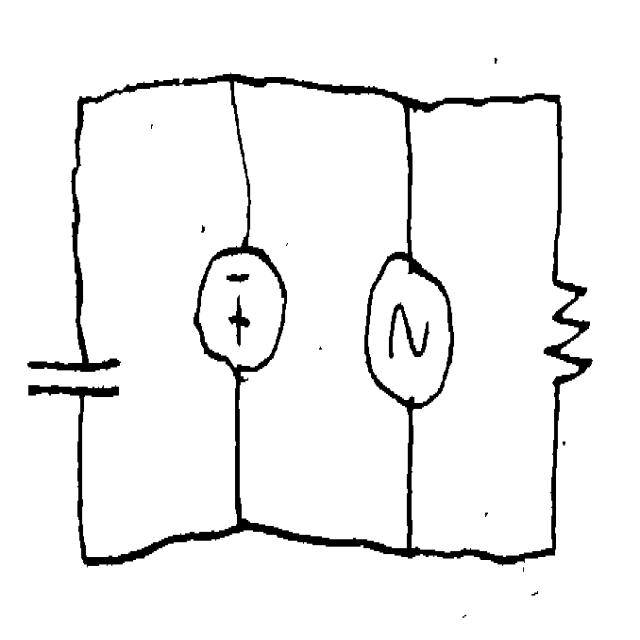ac: (354, 237, 460, 413)
capacitor: (19, 338, 133, 417)
dc: (187, 234, 291, 386)
resistor: (534, 253, 600, 405)
